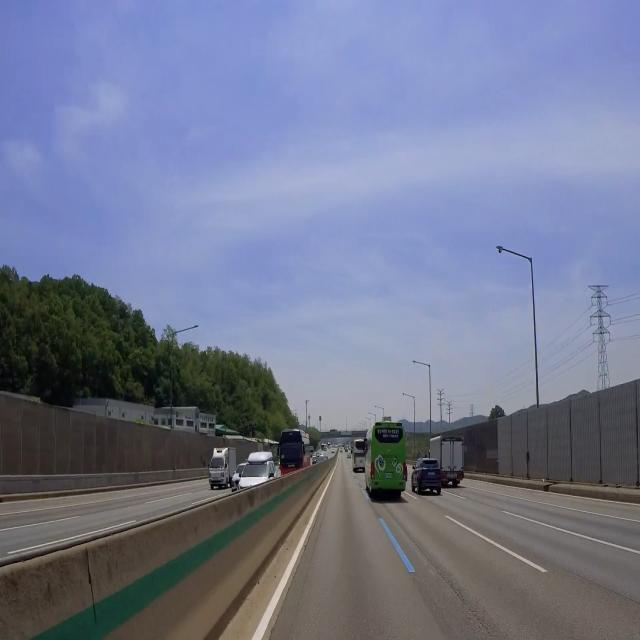car: (444, 466, 462, 480), (425, 467, 438, 483), (383, 468, 396, 482)
